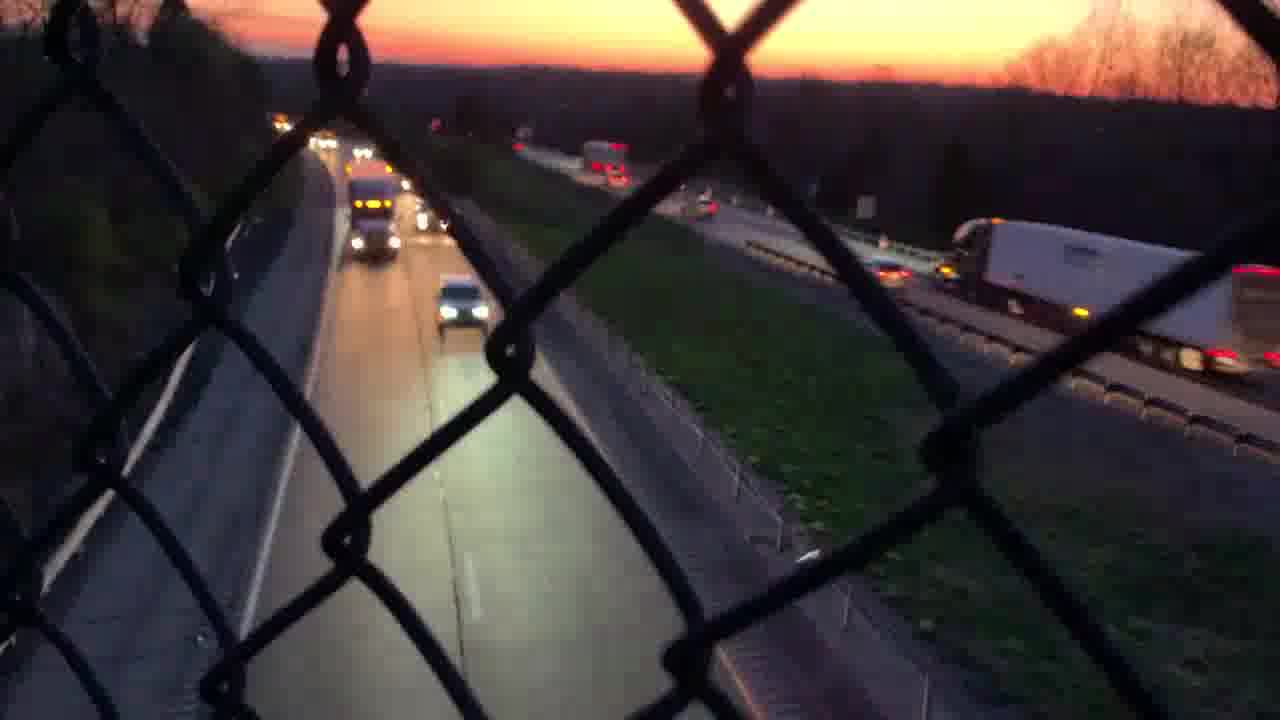heavyTruck: (933, 214, 1280, 379), (338, 172, 402, 270)
largeCar: (855, 252, 911, 294)
smallCar: (433, 273, 487, 336)
